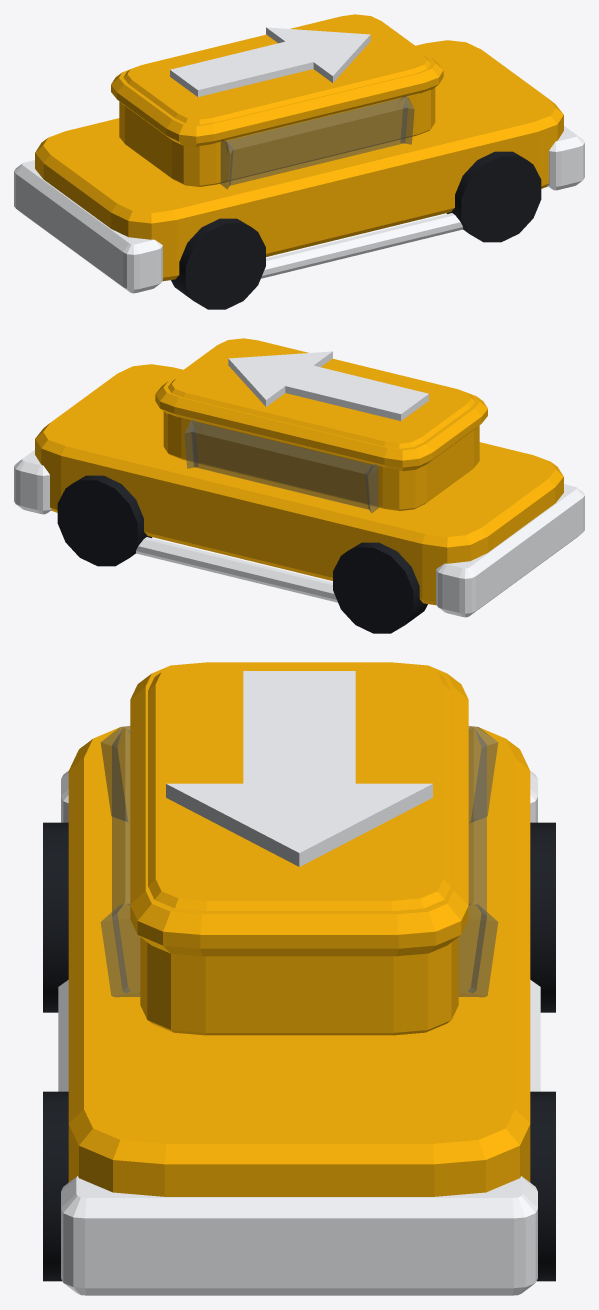
The model's file is car.glb.
3 renders of one model, top to bottom at view 1: azimuth 30°, elevation 25°; view 2: azimuth 150°, elevation 25°; view 3: azimuth 270°, elevation 25°, orthographic. The views are drawn at different scales.
Parts seen in each view (by area): view 1: body, cabin, wheel (×2), side_window, bumper_rear, roof, roof_arrow, sill, bumper_front; view 2: body, cabin, wheel (×2), side_window, bumper_rear, roof, roof_arrow, sill, bumper_front; view 3: body, cabin, bumper_front, roof_arrow, roof, wheel (×4), side_window (×2), sill (×2).
Part boxes in pixels (<box>): body: <box>35,40,563,281</box>; cabin: <box>119,14,435,186</box>; wheel (×2): <box>171,151,541,309</box>; side_window: <box>220,95,414,189</box>; bumper_rear: <box>14,160,162,293</box>; roof: <box>111,15,443,147</box>; roof_arrow: <box>170,27,370,96</box>; sill: <box>261,213,462,278</box>; bumper_front: <box>547,126,584,190</box>; body: <box>35,364,563,605</box>; cabin: <box>163,338,479,510</box>; wheel (×2): <box>57,475,427,633</box>; side_window: <box>184,419,378,513</box>; bumper_rear: <box>436,484,584,617</box>; roof: <box>155,339,487,471</box>; roof_arrow: <box>228,351,428,420</box>; sill: <box>136,537,337,602</box>; bumper_front: <box>14,450,51,514</box>; body: <box>68,726,530,1196</box>; cabin: <box>140,662,458,1035</box>; bumper_front: <box>61,1176,537,1295</box>; roof_arrow: <box>166,671,432,866</box>; roof: <box>130,665,468,956</box>; wheel (×4): <box>43,822,555,1281</box>; side_window (×2): <box>100,726,498,997</box>; sill (×2): <box>58,980,540,1091</box>.
Size of the model in its own units: 2.07 by 0.762 by 1.
